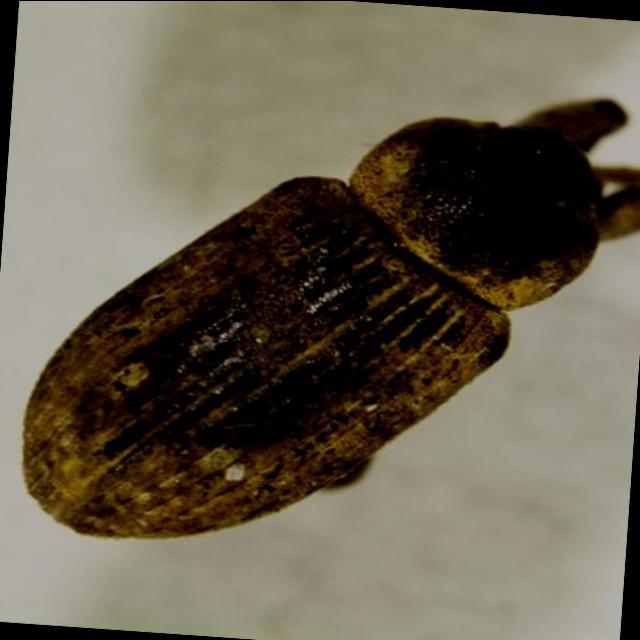ricebug: (24, 101, 640, 537)
